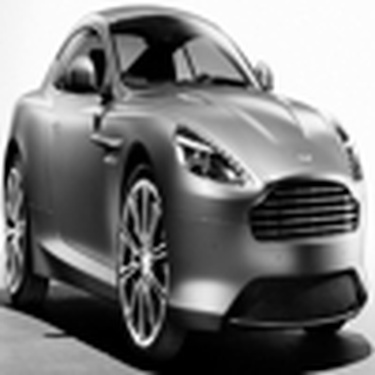car: (1, 3, 374, 368)
